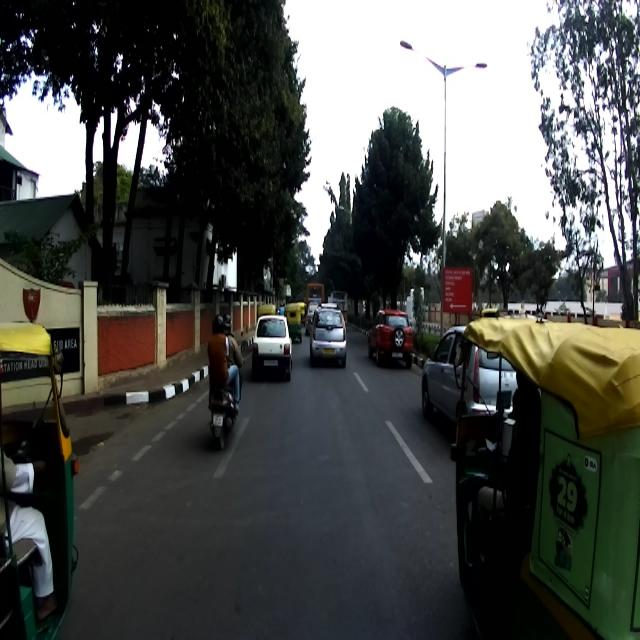autorickshaw: (452, 317, 640, 639), (0, 318, 78, 639)
car: (420, 320, 530, 429), (367, 305, 413, 367), (250, 314, 292, 379), (308, 300, 346, 368)
scooter: (208, 357, 246, 449)
